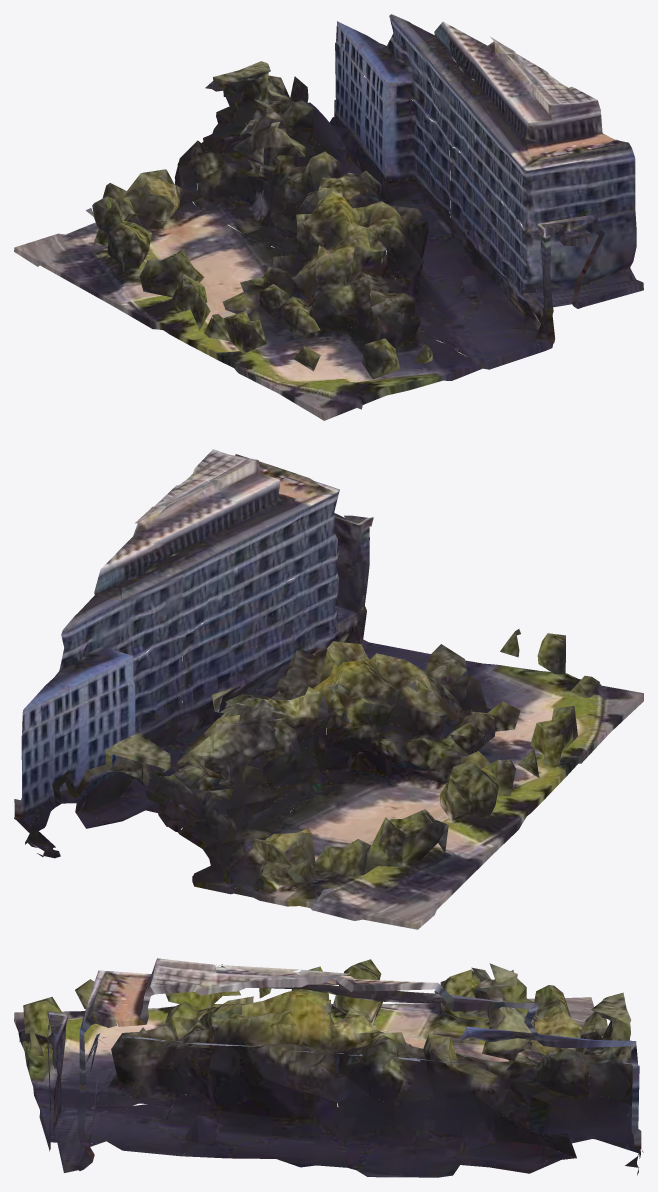
3 views of the same model, one above another, from view 1: azimuth 30°, elevation 25°; view 2: azimuth 150°, elevation 25°; view 3: azimuth 270°, elevation 25° (orthographic). The views are drawn at different scales.
Visible parts, largest first — view 1: Mesh_0; view 2: Mesh_0; view 3: Mesh_0.
Boxes of the visible parts, x1,y1,x2,y2 form: Mesh_0: (14,14,643,420); Mesh_0: (14,449,643,929); Mesh_0: (14,958,643,1177).
Bounding box in the file's own units: 66.6 × 33.7 × 82.74.
2 materials, 2 textured.
